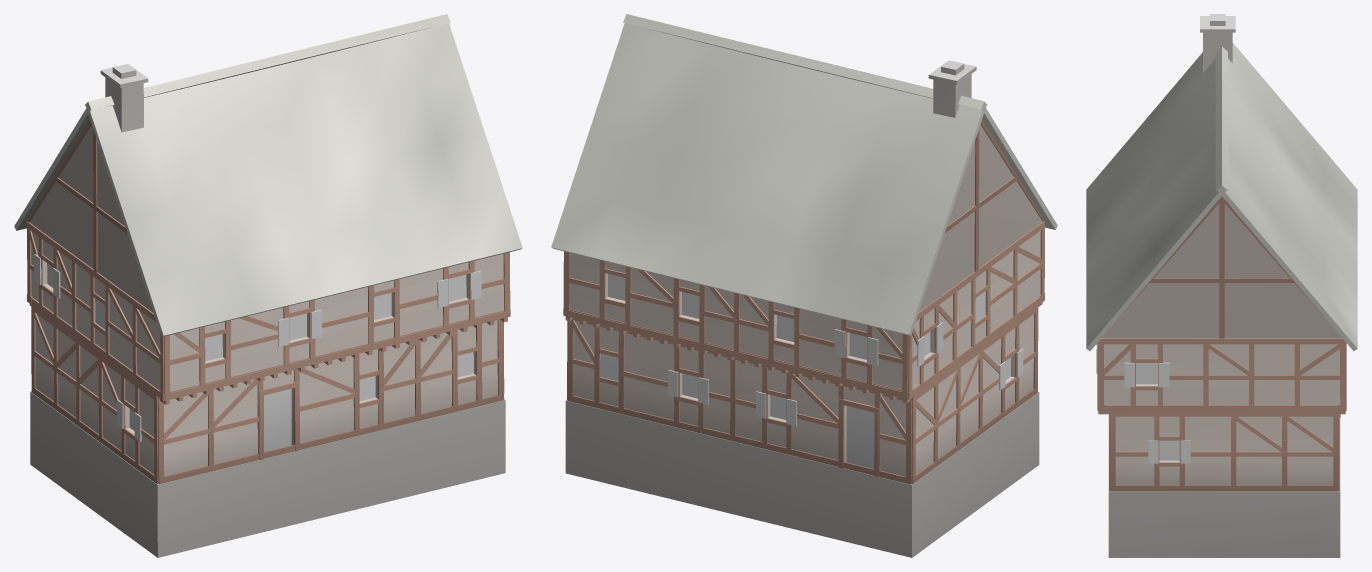
The model's file is timber_3.glb.
3 views of the same model, side by side, from view 1: azimuth 30°, elevation 25°; view 2: azimuth 150°, elevation 25°; view 3: azimuth 270°, elevation 25° (orthographic). The views are drawn at different scales.
Visible parts, largest first — view 1: timber_3; view 2: timber_3; view 3: timber_3.
Part boxes in pixels (box(x1,y1,x2,y2)): timber_3: box(14, 14, 522, 557); timber_3: box(551, 14, 1057, 557); timber_3: box(1086, 14, 1357, 557).
Size of the model in its own units: 12.12 by 14.13 by 8.72.
